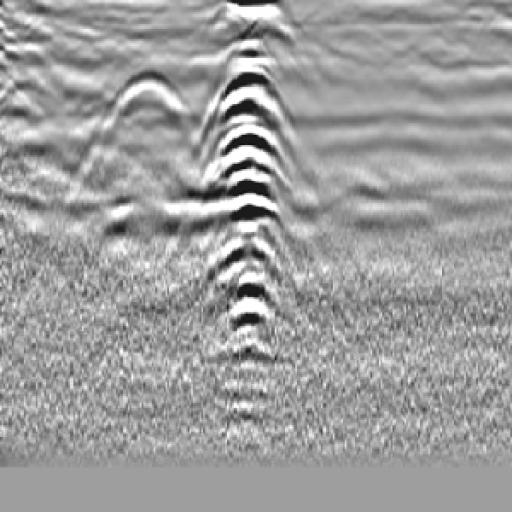metalic: (206, 16, 292, 368)
nonmetalic: (68, 70, 219, 195)
